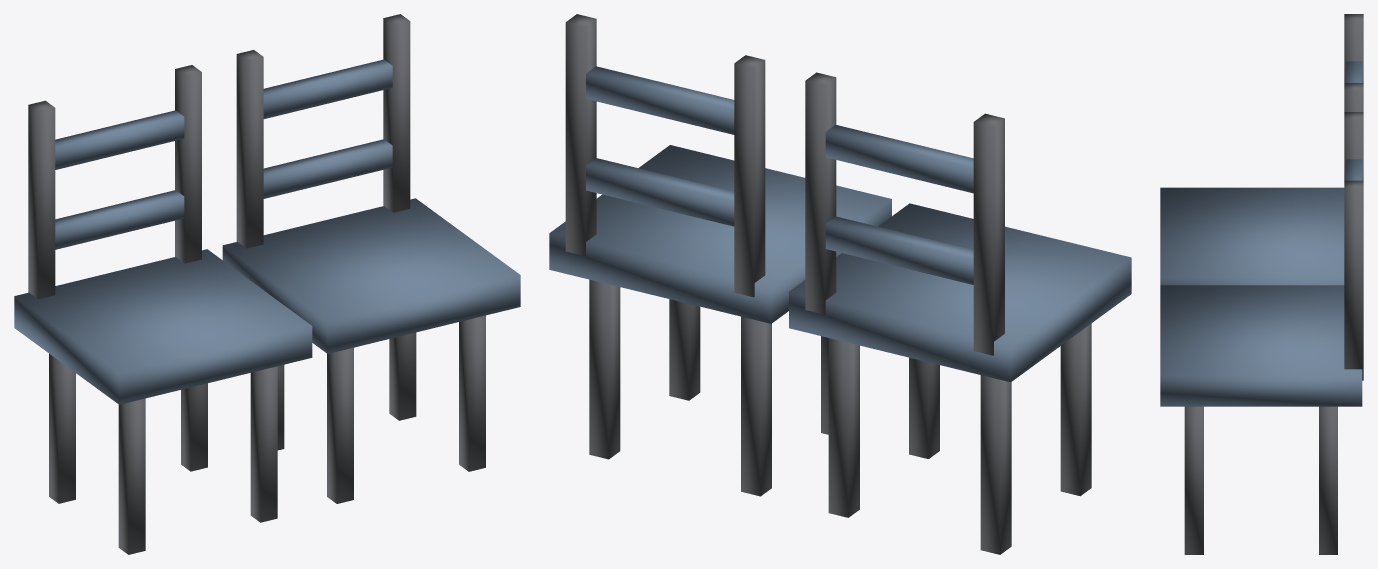
Rendered from jury_chair__cluster.glb.
3 renders of one model, left to right at view 1: azimuth 30°, elevation 25°; view 2: azimuth 150°, elevation 25°; view 3: azimuth 270°, elevation 25°, orthographic. The views are drawn at different scales.
Parts seen in each view (by area): view 1: world; view 2: world; view 3: world.
Part boxes in pixels (x1,y1,x2,y2): world: (14, 14, 520, 554); world: (549, 14, 1131, 554); world: (1160, 14, 1363, 554).
Bounding box in the file's own units: 1.05 × 0.9631 × 0.4796.
